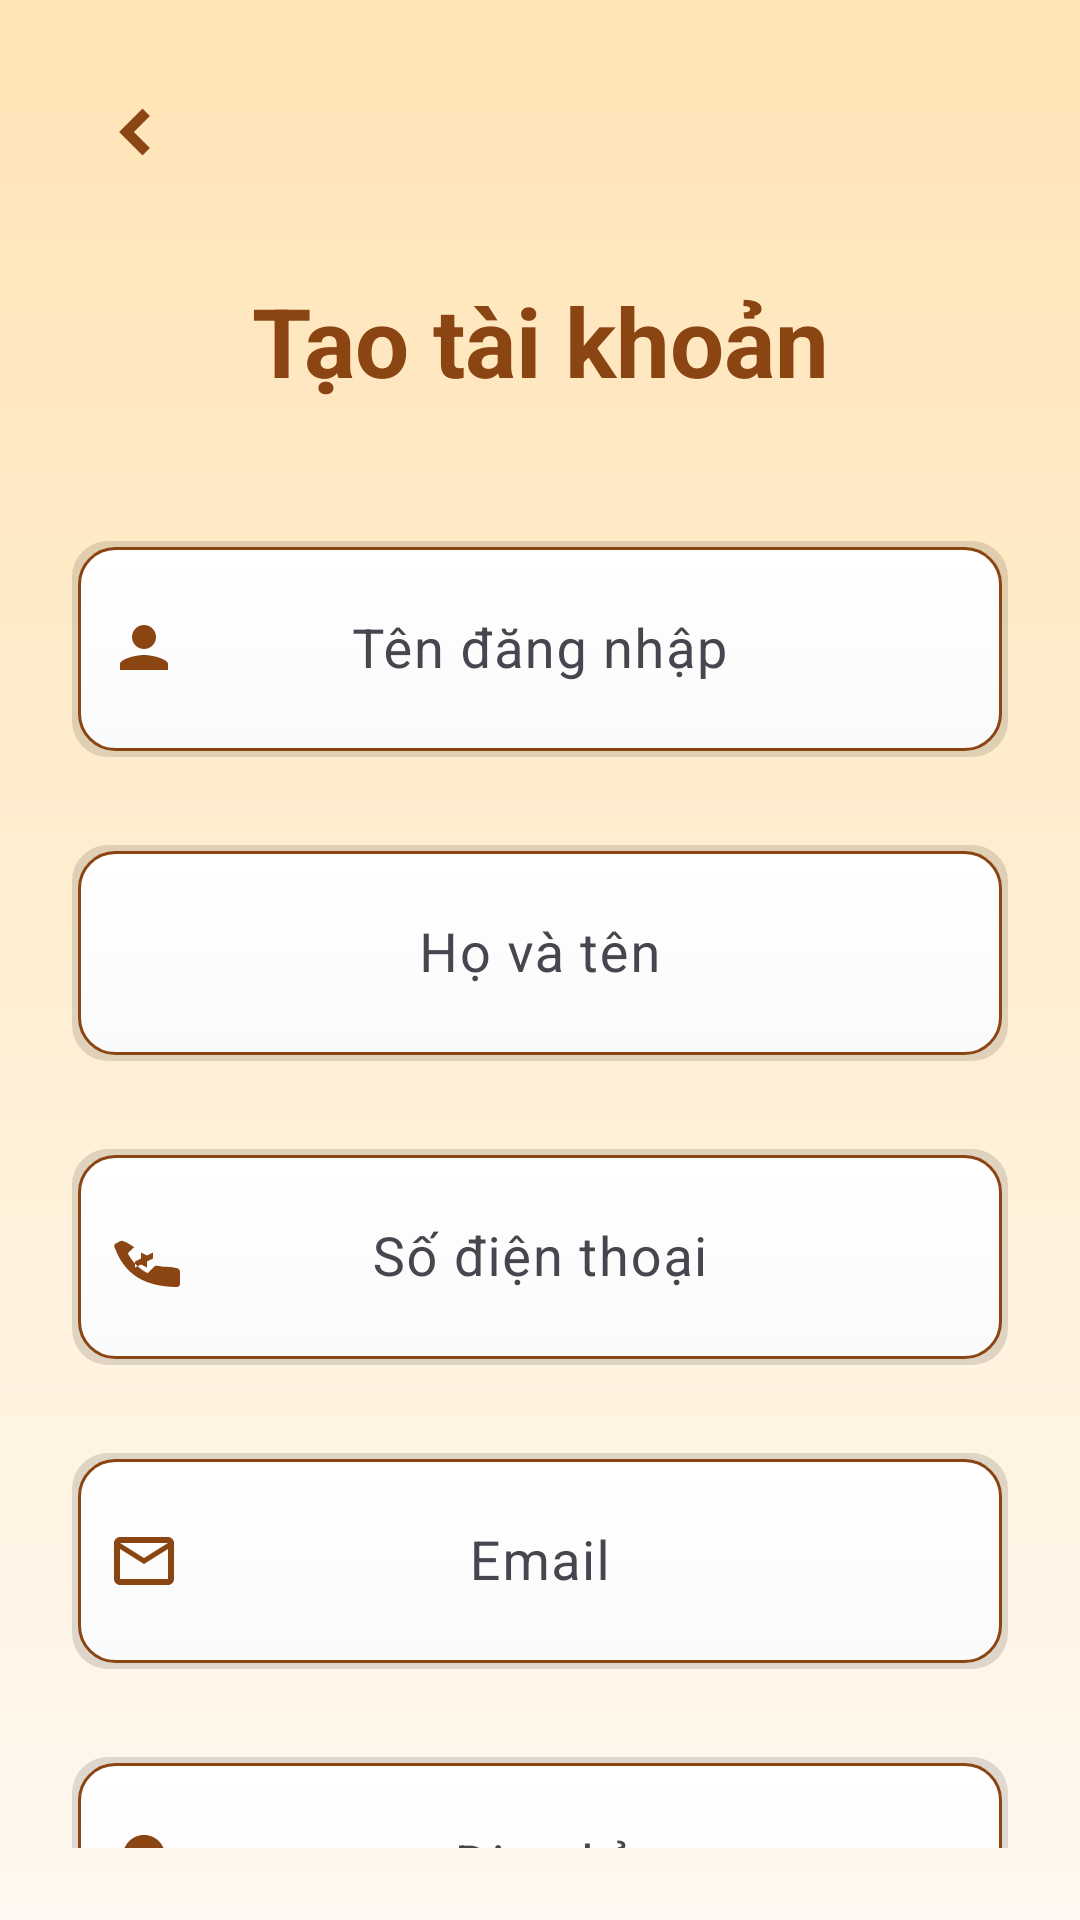

Named icons in this screenshot (1080px×1920px) and their bounding boxes, [x1, y1, x2, y2]:
Back: [119, 109, 150, 155]
